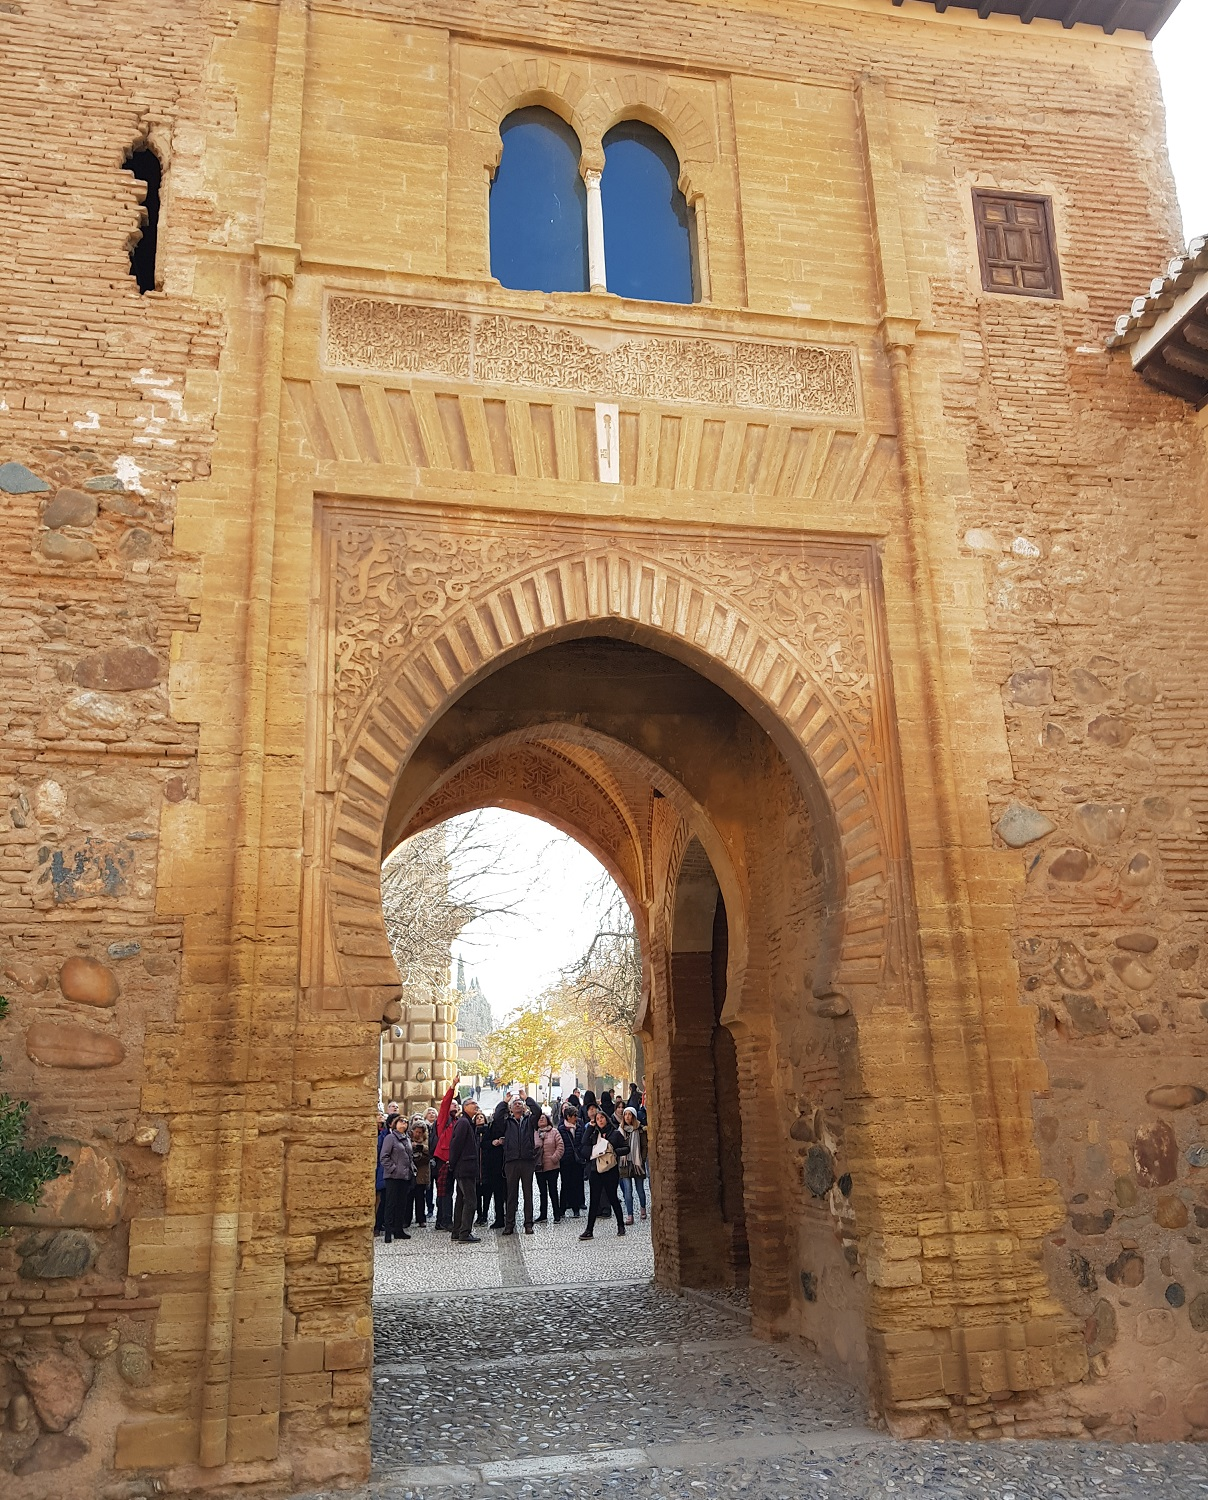arco-herradura: (353, 597, 883, 1066), (593, 99, 708, 203), (482, 80, 595, 184)
dintel-adovelado: (275, 375, 904, 521)
